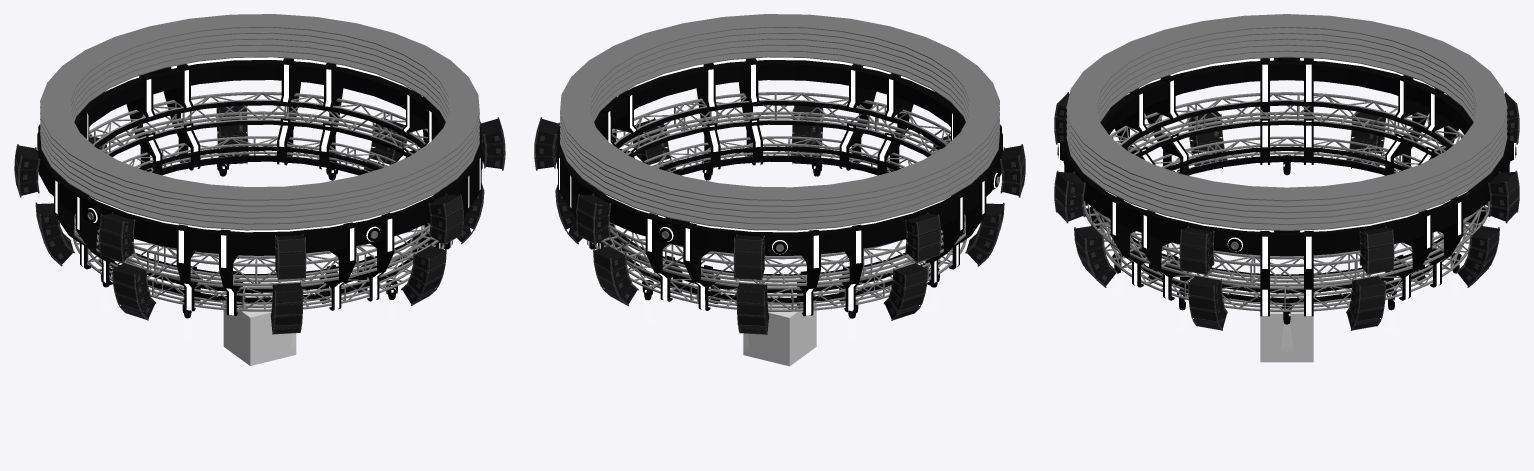
File: bolt-lights-t2.glb
The picture shows the model from 3 angles, left to right: view 1: azimuth 30°, elevation 25°; view 2: azimuth 150°, elevation 25°; view 3: azimuth 270°, elevation 25°; orthographic projection.
Visible parts, largest first — view 1: MeshLOD0.011, MeshLOD0.010, UpperTruss, LowerTruss, Selector, MeshLOD0.023, MeshLOD0.025, MeshLOD0.024, MeshLOD0.017, MeshLOD0.015, MeshLOD0.016, MeshLOD0.022 (+5 smaller); view 2: MeshLOD0.011, MeshLOD0.010, UpperTruss, LowerTruss, Selector, MeshLOD0.022, MeshLOD0.036, MeshLOD0.037, MeshLOD0.018, MeshLOD0.020, MeshLOD0.019, MeshLOD0.023 (+5 smaller); view 3: MeshLOD0.011, MeshLOD0.010, UpperTruss, LowerTruss, Selector, MeshLOD0.027, MeshLOD0.026, MeshLOD0.025, MeshLOD0.036, MeshLOD0.021, MeshLOD0.014, MeshLOD0.015 (+5 smaller).
Boxes of the visible parts, left/top/right/bottom form: MeshLOD0.011: left=40, top=14, right=479, bottom=230; MeshLOD0.010: left=37, top=57, right=482, bottom=315; UpperTruss: left=74, top=91, right=438, bottom=286; LowerTruss: left=73, top=136, right=444, bottom=311; Selector: left=223, top=292, right=296, bottom=365; MeshLOD0.023: left=112, top=261, right=156, bottom=320; MeshLOD0.025: left=401, top=244, right=446, bottom=305; MeshLOD0.024: left=270, top=281, right=303, bottom=334; MeshLOD0.017: left=99, top=212, right=135, bottom=263; MeshLOD0.015: left=428, top=193, right=463, bottom=245; MeshLOD0.016: left=275, top=234, right=306, bottom=280; MeshLOD0.022: left=35, top=202, right=74, bottom=266; MeshLOD0.011: left=560, top=14, right=999, bottom=230; MeshLOD0.010: left=557, top=57, right=1002, bottom=316; UpperTruss: left=600, top=92, right=965, bottom=286; LowerTruss: left=595, top=136, right=966, bottom=311; Selector: left=743, top=293, right=816, bottom=366; MeshLOD0.022: left=883, top=261, right=927, bottom=320; MeshLOD0.036: left=593, top=244, right=638, bottom=306; MeshLOD0.037: left=736, top=281, right=769, bottom=334; MeshLOD0.018: left=905, top=212, right=940, bottom=263; MeshLOD0.020: left=576, top=193, right=611, bottom=245; MeshLOD0.019: left=733, top=234, right=764, bottom=280; MeshLOD0.023: left=965, top=202, right=1004, bottom=266; MeshLOD0.011: left=1066, top=14, right=1507, bottom=230; MeshLOD0.010: left=1057, top=57, right=1516, bottom=316; UpperTruss: left=1083, top=92, right=1490, bottom=286; LowerTruss: left=1099, top=136, right=1474, bottom=311; Selector: left=1260, top=293, right=1313, bottom=362; MeshLOD0.027: left=1346, top=274, right=1385, bottom=330; MeshLOD0.026: left=1188, top=274, right=1227, bottom=330; MeshLOD0.025: left=1074, top=224, right=1117, bottom=287; MeshLOD0.036: left=1456, top=224, right=1499, bottom=287; MeshLOD0.021: left=1359, top=226, right=1394, bottom=275; MeshLOD0.014: left=1179, top=226, right=1214, bottom=275; MeshLOD0.015: left=1054, top=170, right=1085, bottom=223.
Bounding box in the file's own units: 17.41 × 11.06 × 17.41.
5 materials, 2 textured.
